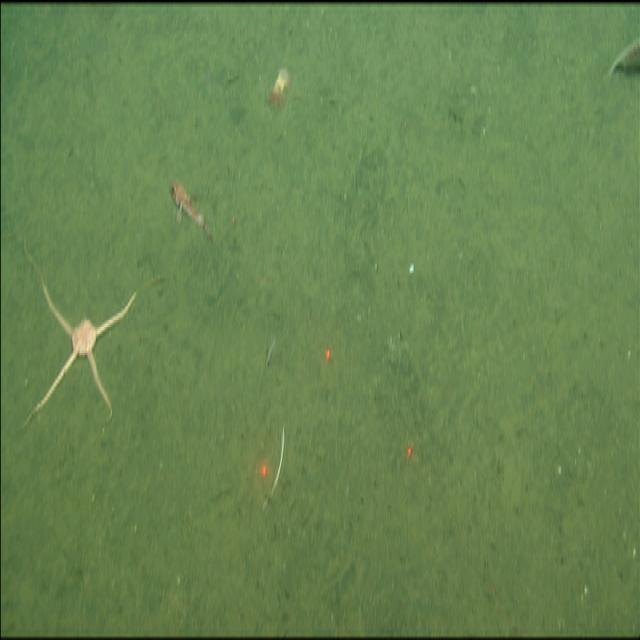Brittle Star: (15, 226, 165, 437)
Not Brittle Star: (166, 176, 220, 248), (266, 68, 294, 108)
